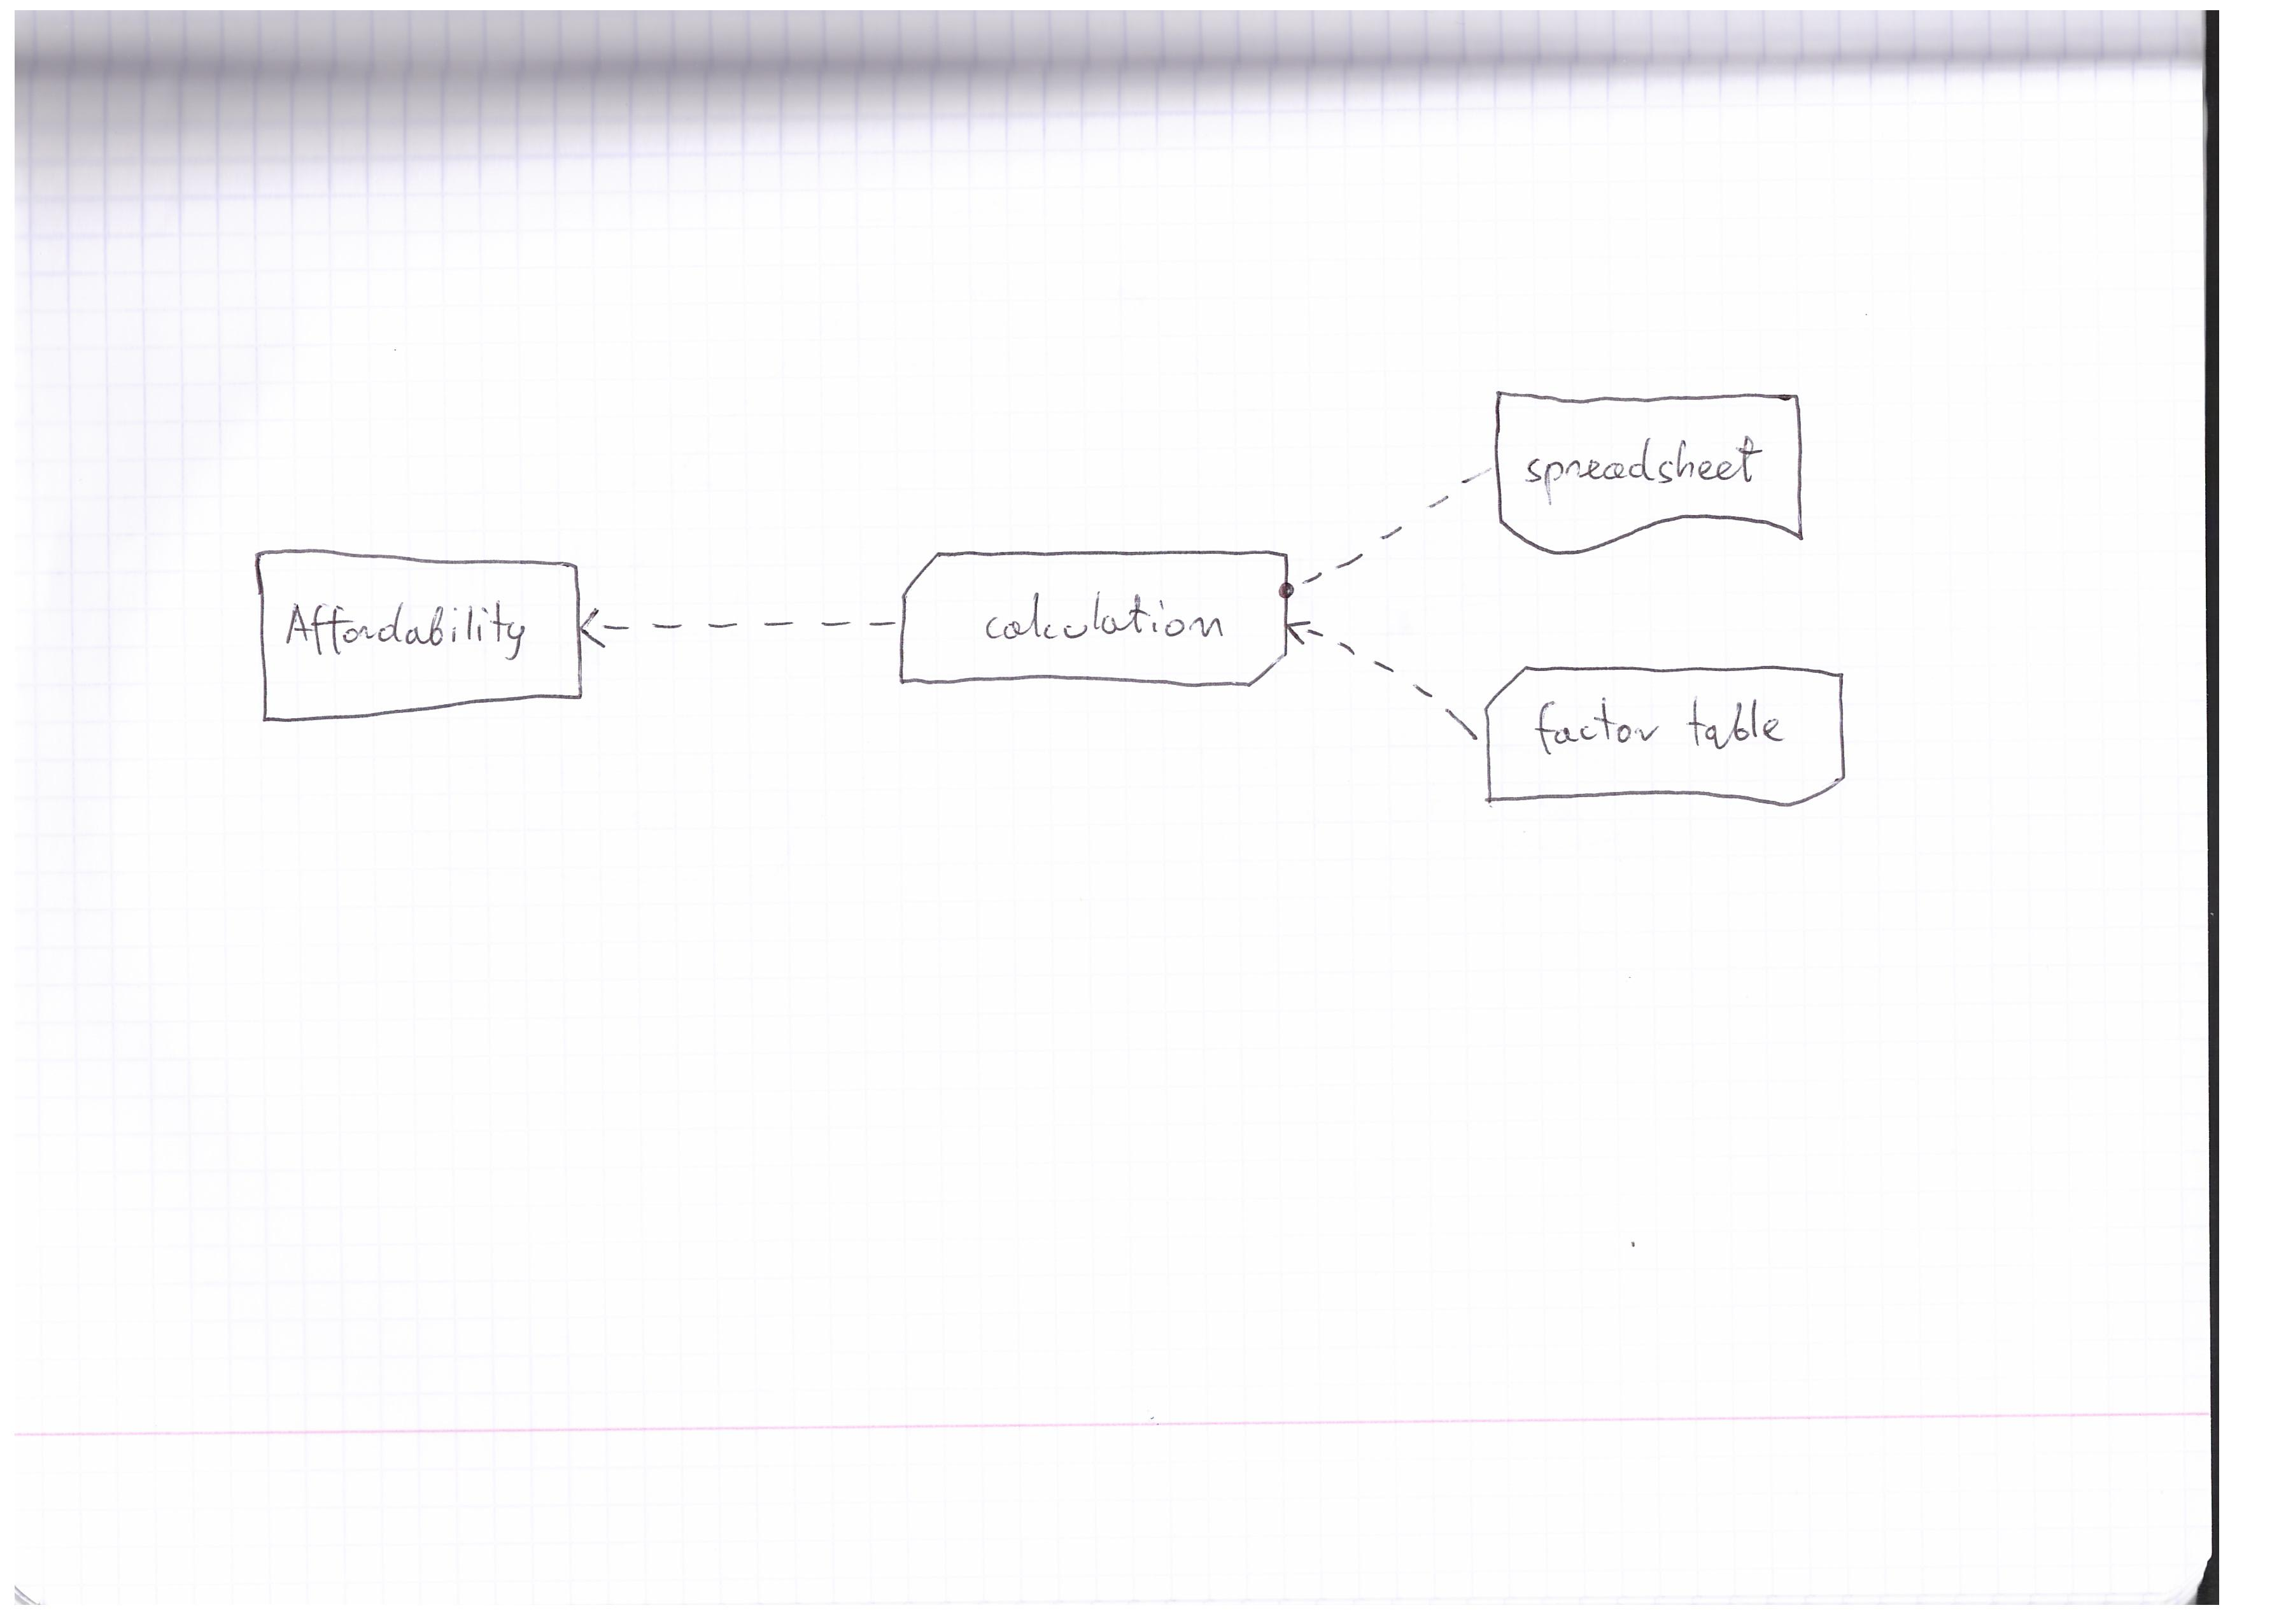arrow_authority_requirement: (1276, 446, 1497, 606)
arrow_knowledge_requirement: (1284, 610, 1483, 758), (576, 585, 903, 668)
node_decision: (244, 538, 585, 728)
node_knowledge_model: (896, 540, 1293, 708), (1480, 659, 1861, 823)
node_knowledge_source: (1488, 387, 1824, 562)
text: (1516, 684, 1805, 772), (1518, 420, 1773, 511), (276, 587, 538, 675), (972, 580, 1242, 663)
